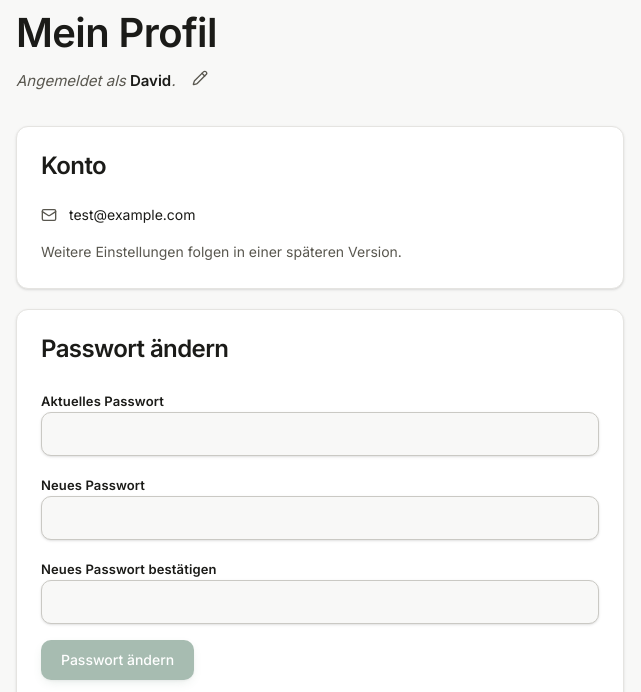
Scenario: <ProfilePage /> › Password change card › happy path: POSTs and shows a confirmation, clears fields
The width and height of the screenshot is (641, 692).
In the password field labelled "Aktuelles Passwort": (320, 434) [41, 412, 599, 456], type "AltesPasswort1!"
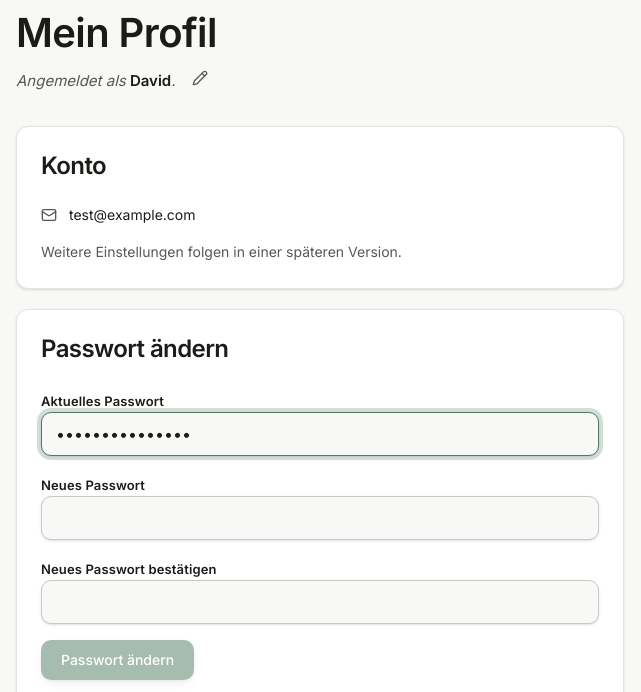
In the password field labelled "Neues Passwort": (320, 518) [41, 496, 599, 540], type "NeuesPasswort1!"
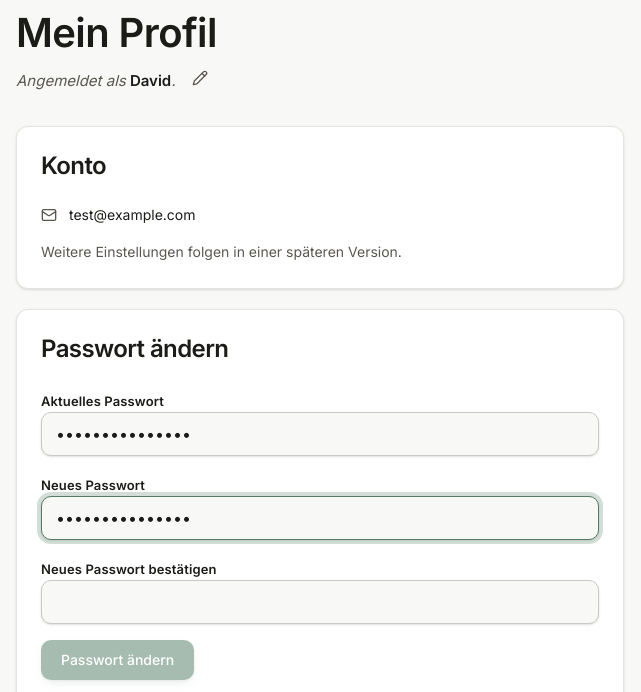
In the password field labelled "Neues Passwort bestätigen": (320, 602) [41, 580, 599, 624], type "NeuesPasswort1!"
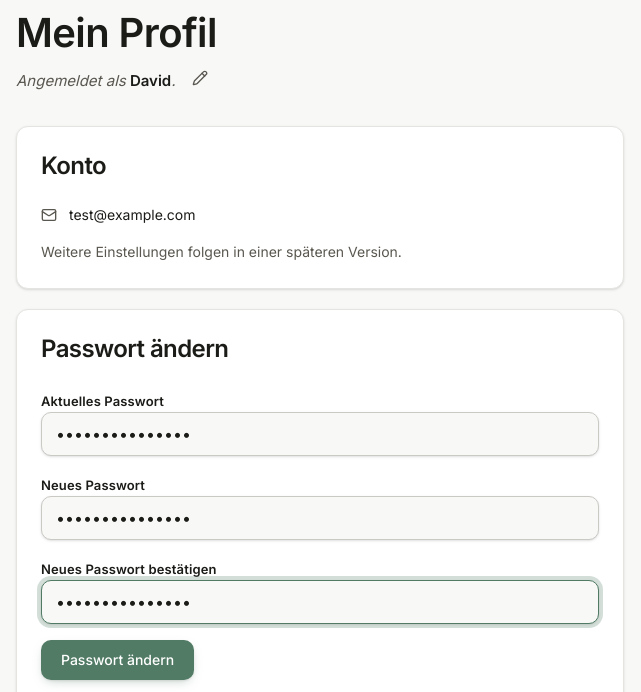
Click the button "Passwort ändern": (118, 660) [41, 640, 194, 680]
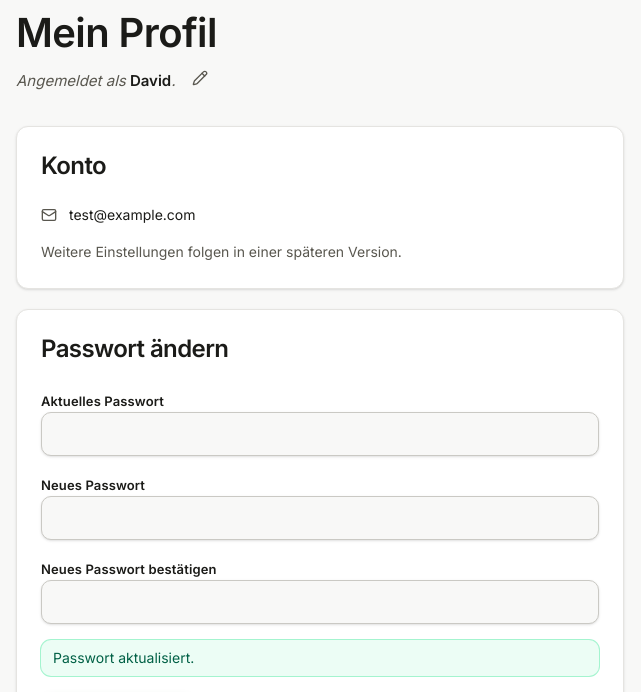
Now the text "Passwort aktualisiert." is shown, box [41, 640, 599, 676]
Now the password field labelled "Aktuelles Passwort" is empty, box [41, 412, 599, 456]
Now the password field labelled "Neues Passwort" is empty, box [41, 496, 599, 540]
